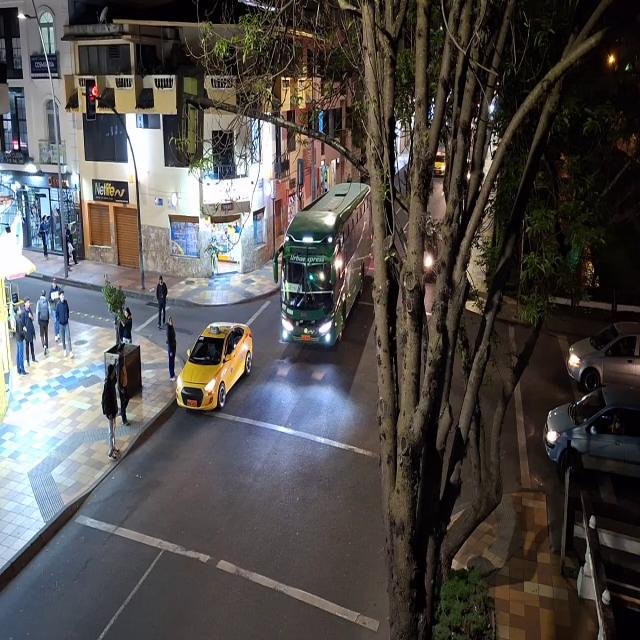BUS: (283, 185, 370, 355)
SED: (547, 396, 640, 481), (180, 322, 250, 408), (566, 325, 638, 381)
